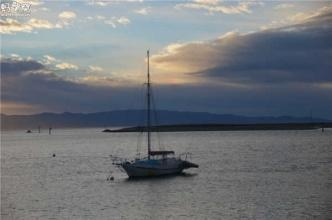otherboat: (114, 150, 205, 179)
